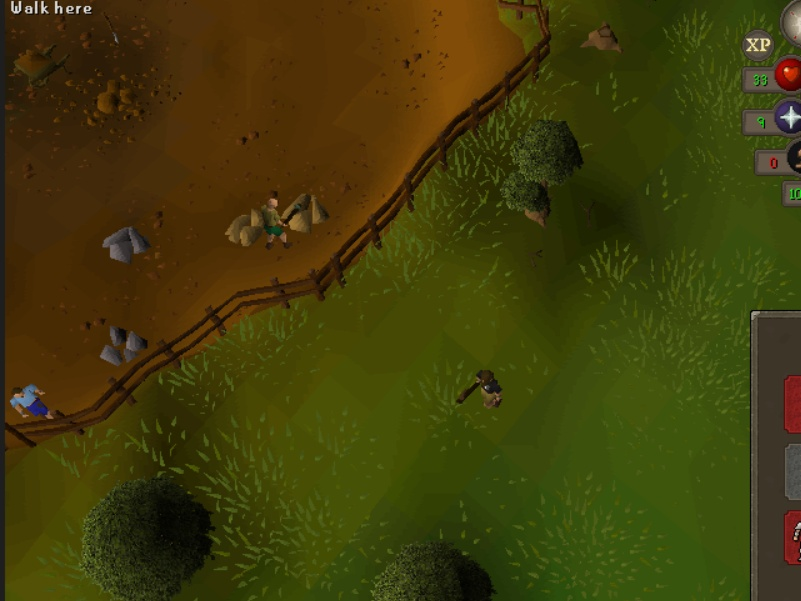clay: (278, 187, 334, 235), (215, 204, 273, 246)
tin: (97, 221, 155, 263), (97, 323, 155, 365)
